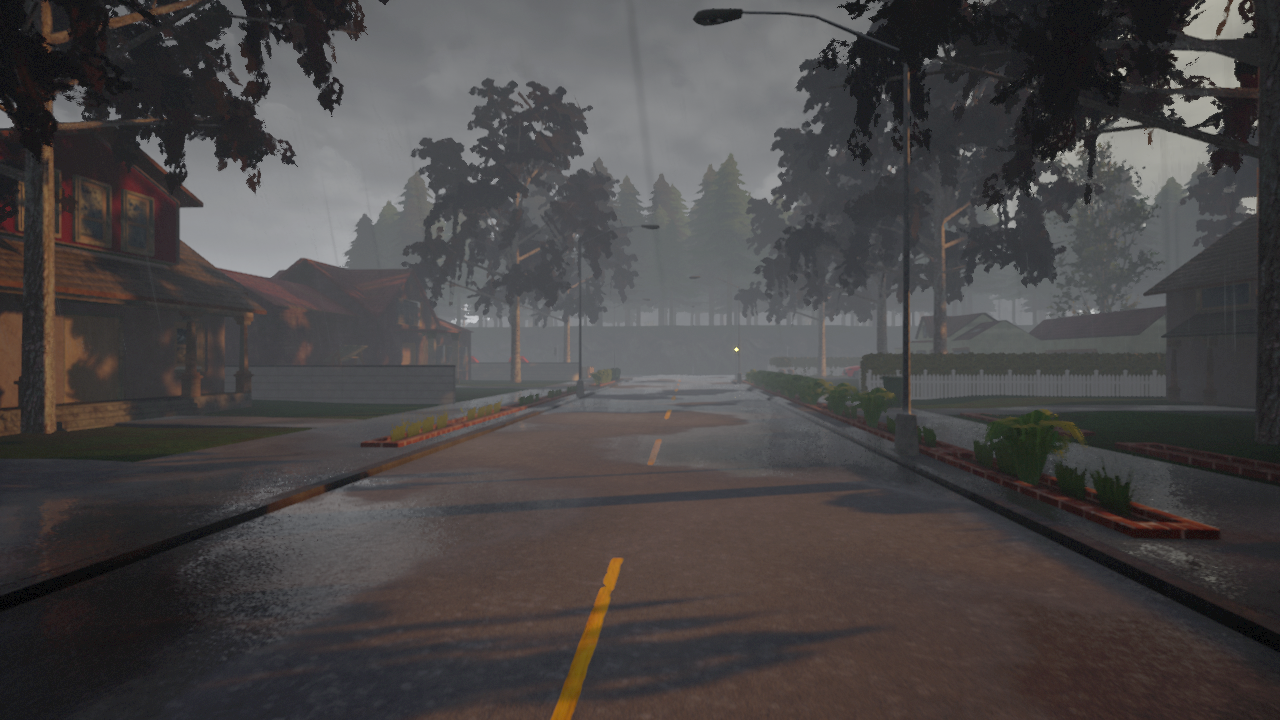yellow: (733, 342, 739, 358)
